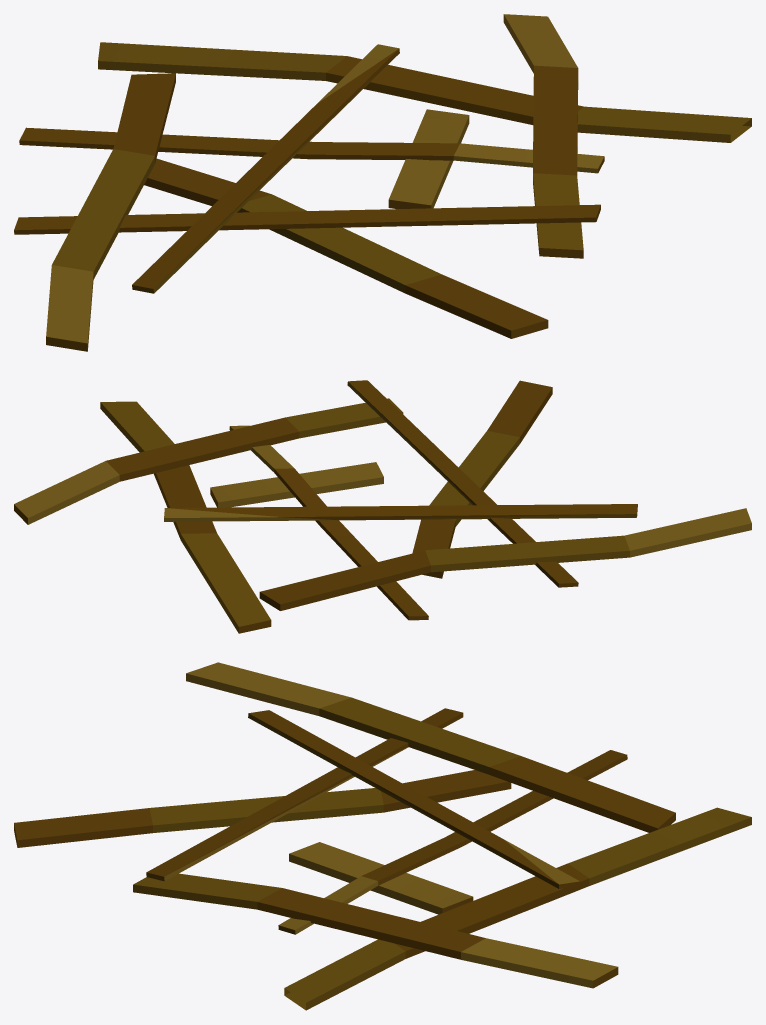
File: wood.glb
The picture shows the model from 3 angles, top to bottom: view 1: azimuth 30°, elevation 25°; view 2: azimuth 150°, elevation 25°; view 3: azimuth 270°, elevation 25°; orthographic projection. The views are drawn at different scales.
Visible parts, largest first — view 1: rubble_2_5_atlass_1_0; view 2: rubble_2_5_atlass_1_0; view 3: rubble_2_5_atlass_1_0.
Part boxes in pixels (box(x1,y1,x2,y2)): rubble_2_5_atlass_1_0: box(14, 14, 751, 351); rubble_2_5_atlass_1_0: box(14, 380, 751, 633); rubble_2_5_atlass_1_0: box(14, 662, 751, 1010).
Size of the model in its own units: 11.01 by 0.4903 by 10.09.
Materials: 1 (1 with a texture image).
